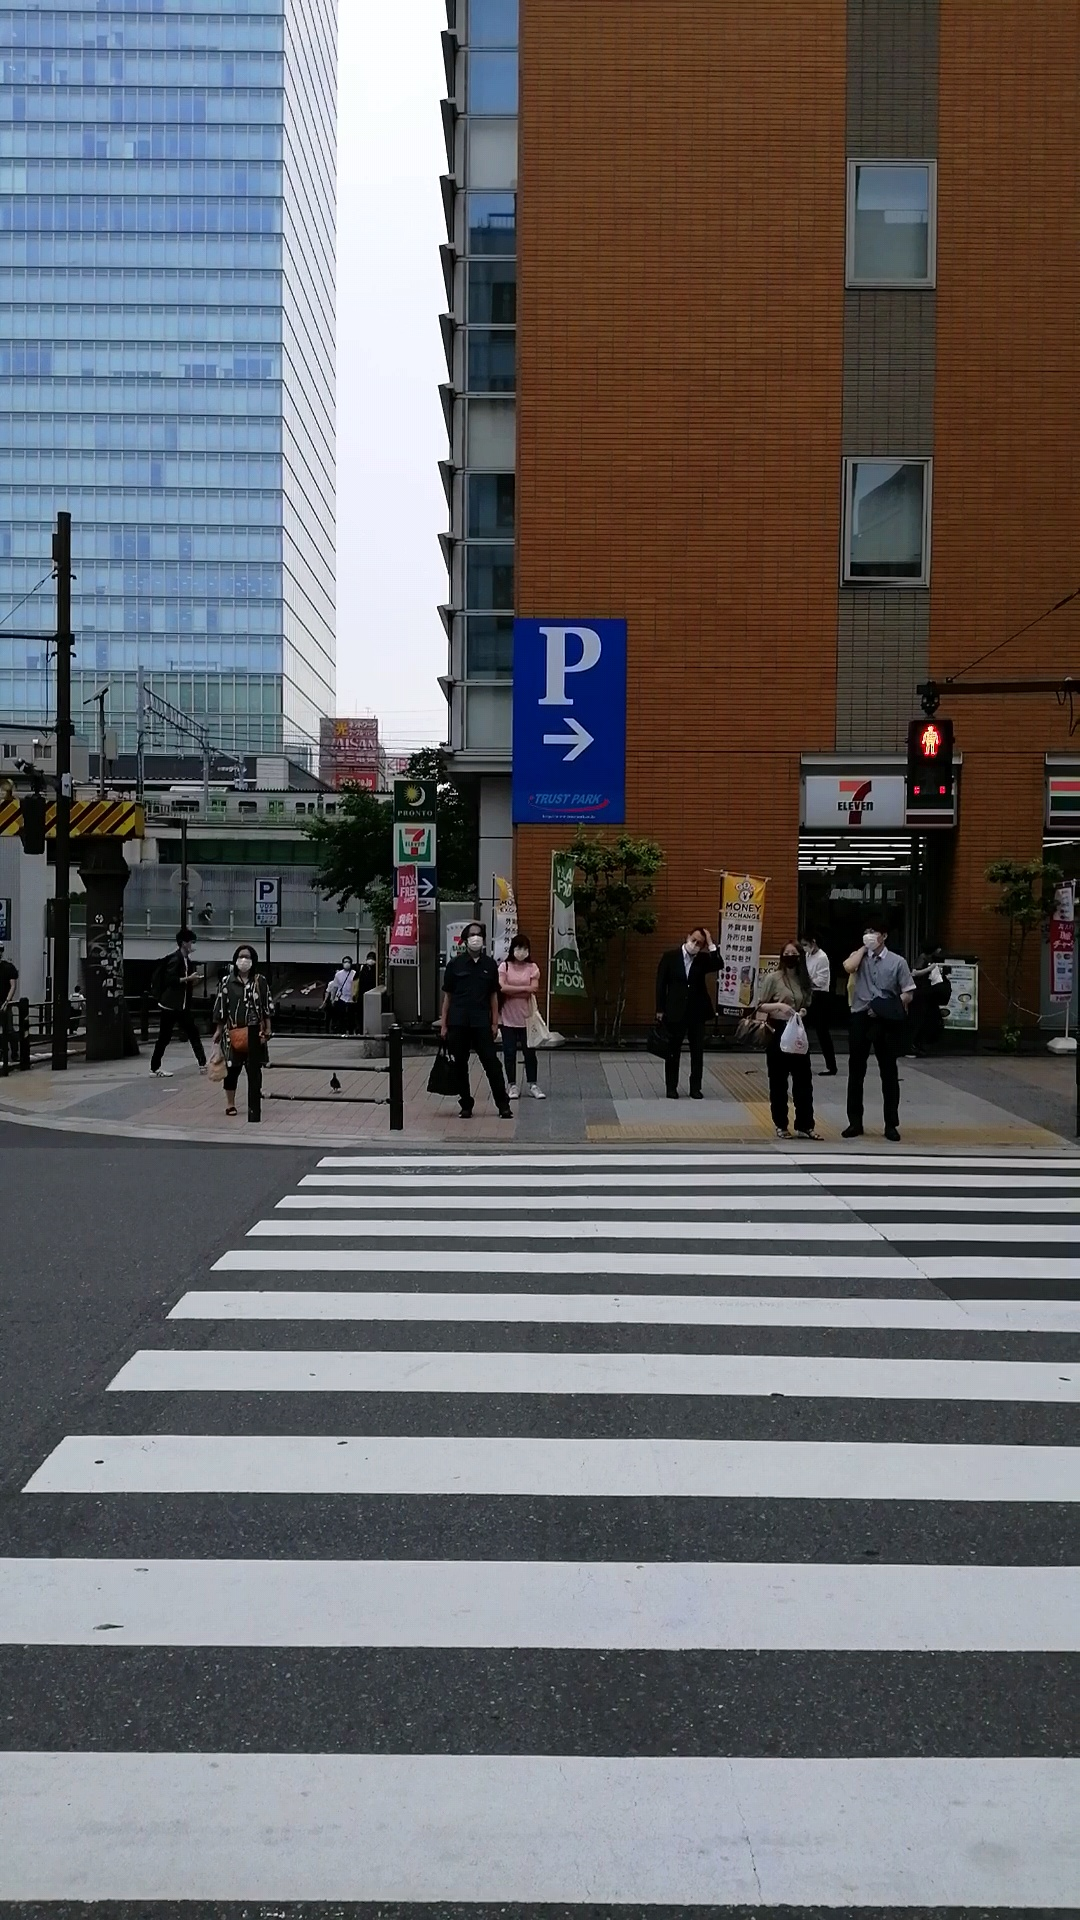red: (906, 720, 953, 808)
